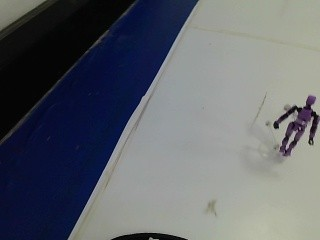pedestrian: (263, 80, 318, 163)
